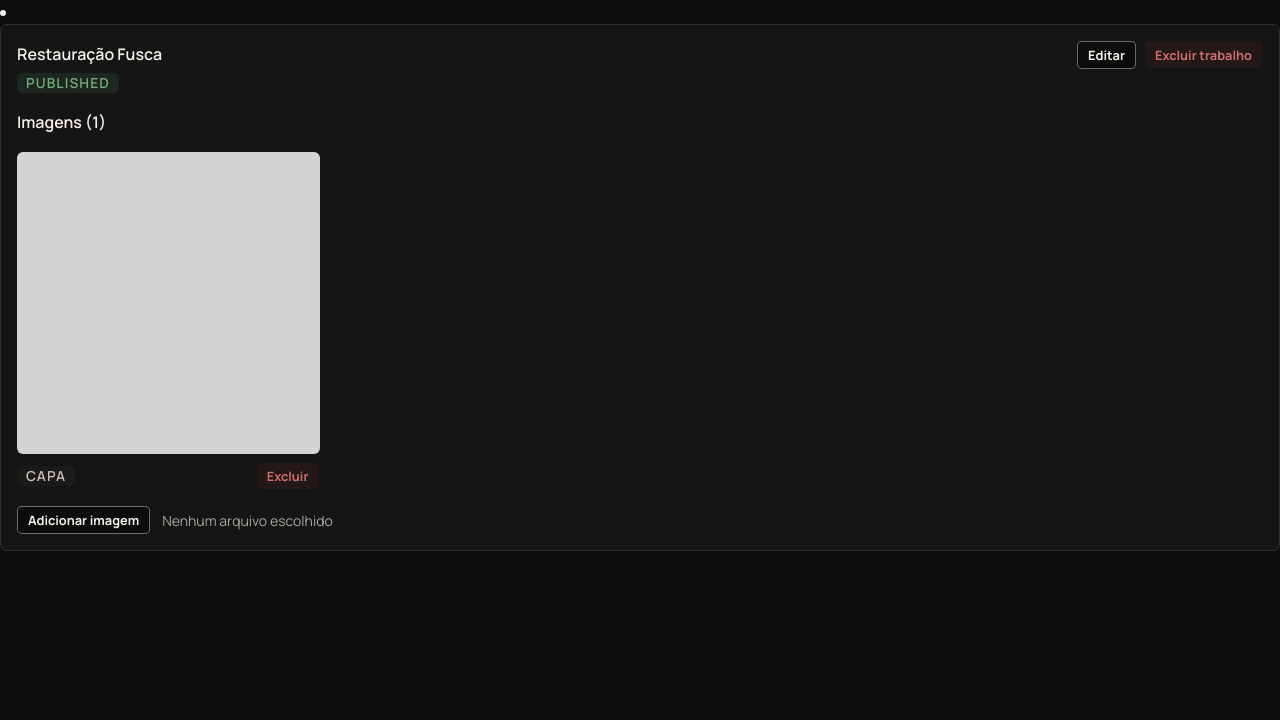
Scenario: WorkListItem › remove uma imagem somente após confirmação, invalida o cache e atualiza a listagem
Click the button with aria-label "Excluir imagem 1: Banco restaurado" at (288, 476), box [256,462,320,490]
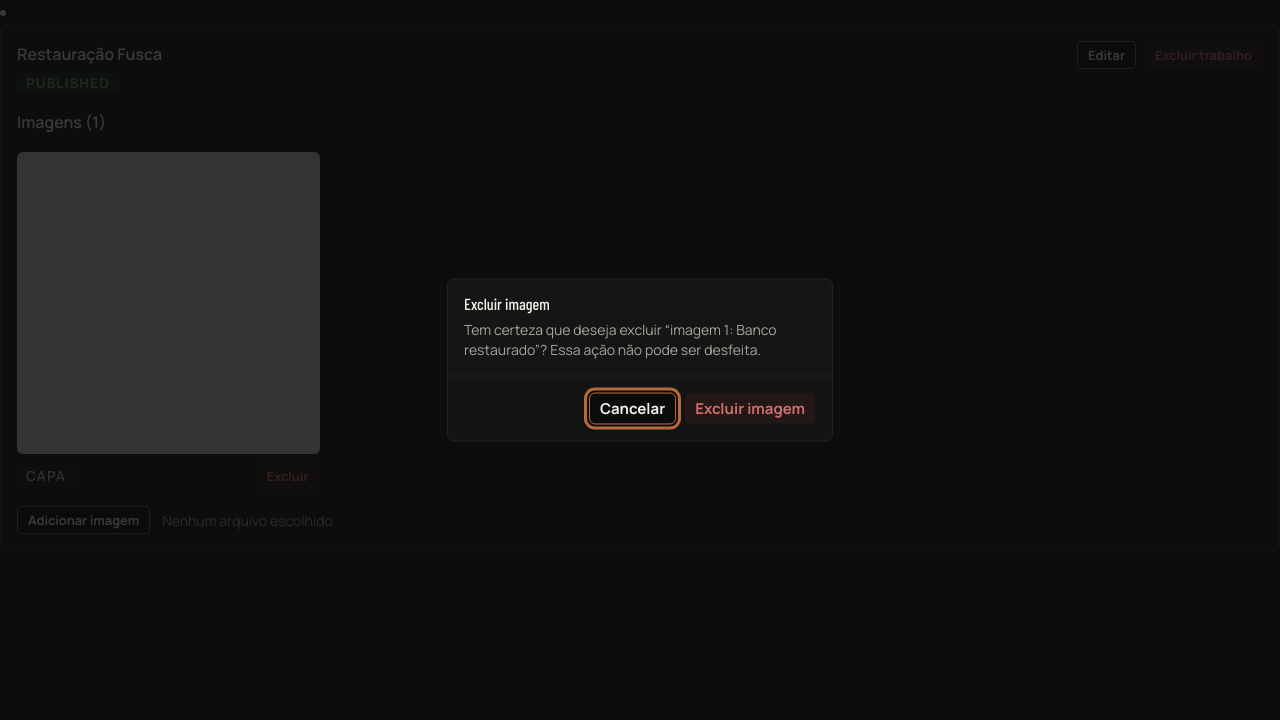
Check: the heading "Excluir imagem" is shown, box [464,294,550,312]
Click the button "Excluir imagem" at (750, 408), box [684,392,816,424]
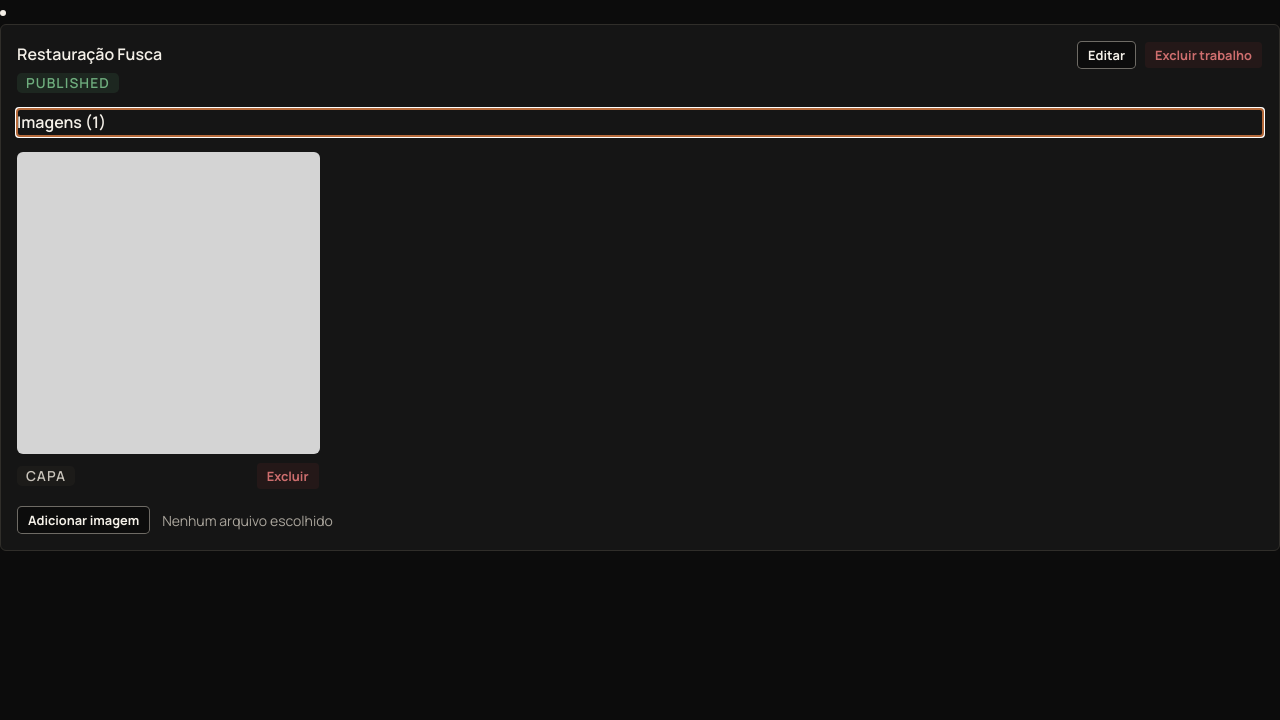
Check: the heading "Excluir imagem" is gone
